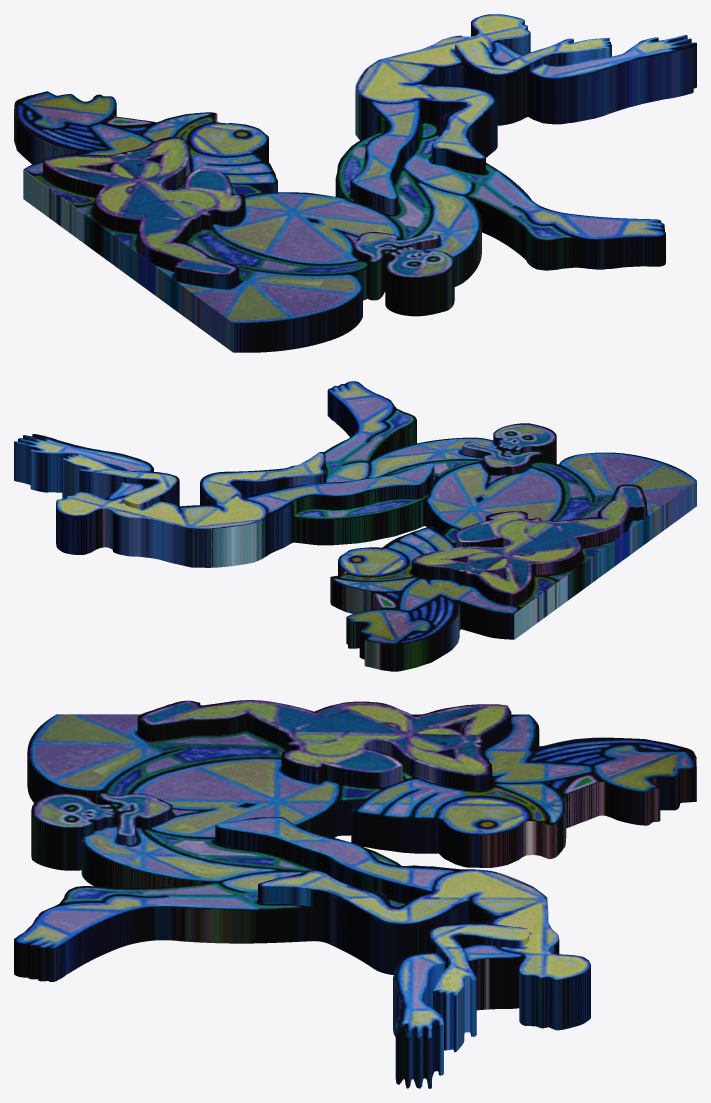
File: muro de la carne 1.dae
The picture shows the model from 3 angles, top to bottom: view 1: azimuth 30°, elevation 25°; view 2: azimuth 150°, elevation 25°; view 3: azimuth 270°, elevation 25°; orthographic projection. The views are drawn at different scales.
Parts seen in each view (by area): view 1: SketchUp (×3); view 2: SketchUp (×3); view 3: SketchUp (×3).
Part boxes in pixels (<box>): SketchUp (×3): <box>14,14,696,352</box>; SketchUp (×3): <box>14,381,696,671</box>; SketchUp (×3): <box>14,700,696,1088</box>.
Size of the model in its own units: 53.64 by 45.37 by 4.13.
